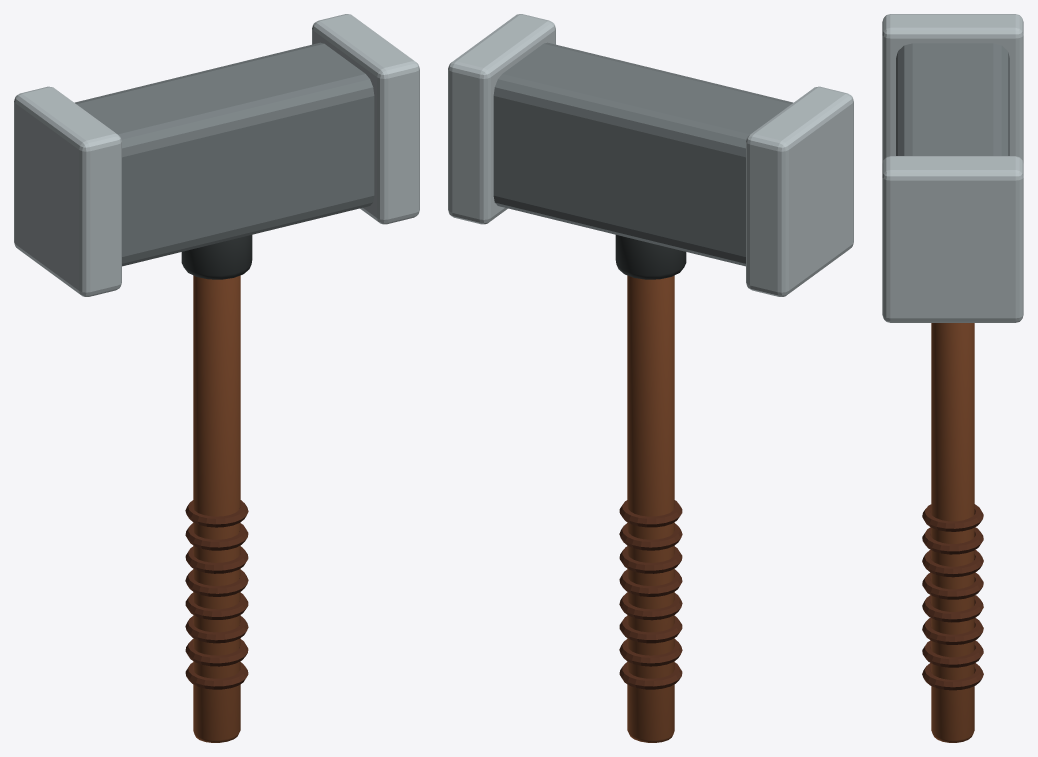
The model's file is SM_Bram_Hammer.fbx.
3 views of the same model, side by side, from view 1: azimuth 30°, elevation 25°; view 2: azimuth 150°, elevation 25°; view 3: azimuth 270°, elevation 25° (orthographic). The views are drawn at different scales.
Parts seen in each view (by area): view 1: SM_Bram_Hammer; view 2: SM_Bram_Hammer; view 3: SM_Bram_Hammer.
Boxes of the visible parts, x1=… form: SM_Bram_Hammer: x1=14, y1=14, x2=419, y2=742; SM_Bram_Hammer: x1=448, y1=14, x2=853, y2=742; SM_Bram_Hammer: x1=882, y1=14, x2=1023, y2=742.
Size of the model in its own units: 0.57 by 0.21 by 1.06.
